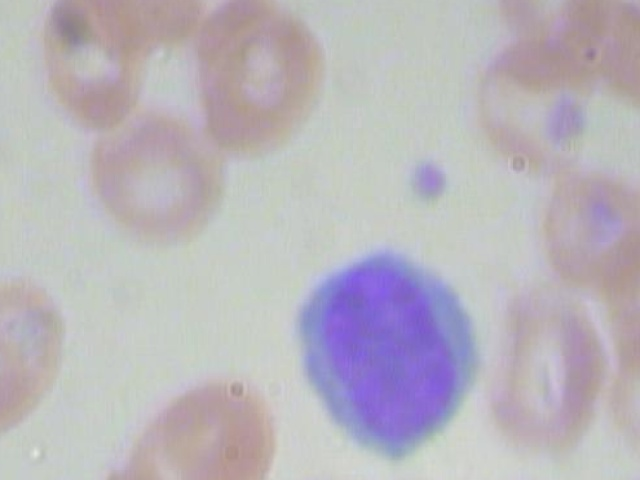Platelets: (398, 152, 456, 211)
WBC: (287, 239, 502, 475)
